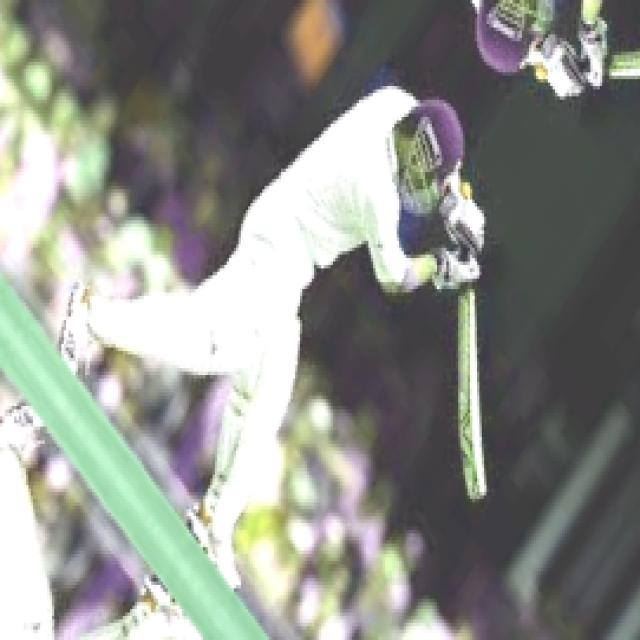toe: (454, 444, 492, 502)
